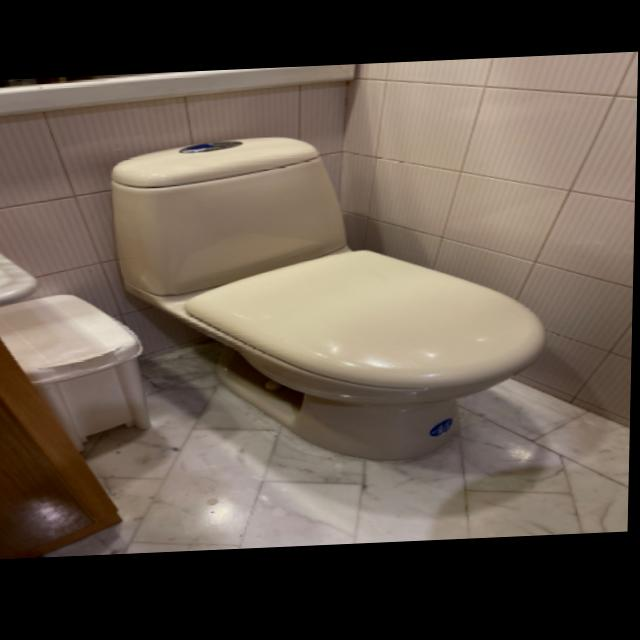toilet: (106, 128, 552, 475)
